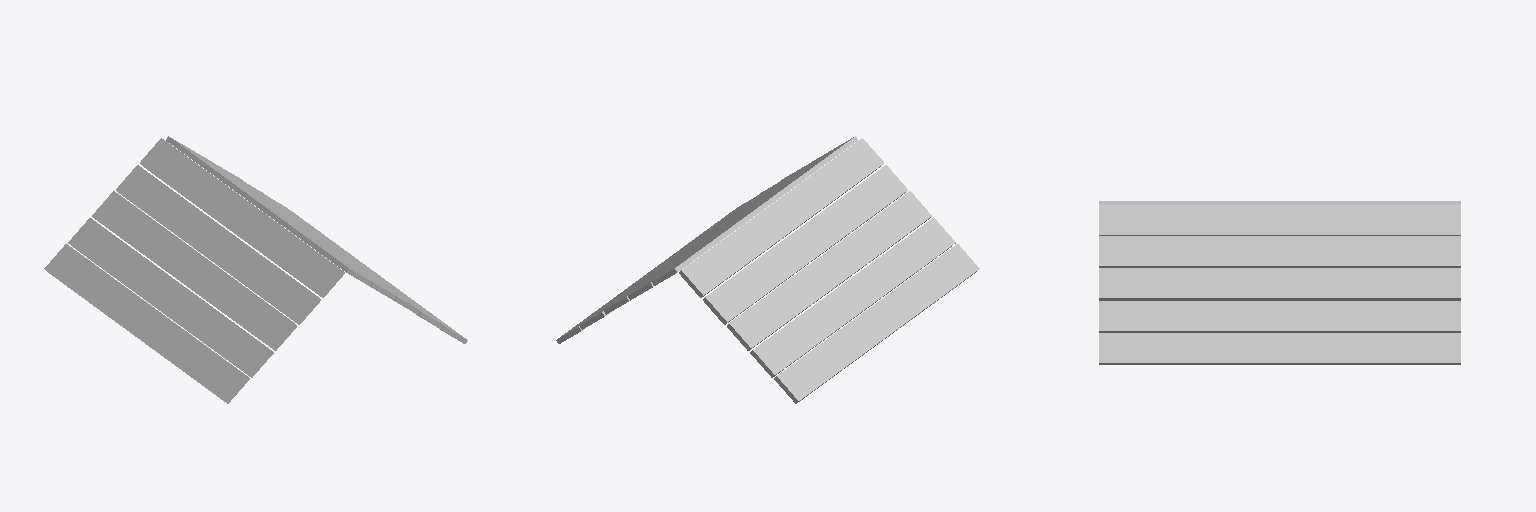
The model's file is roof.obj.
The picture shows the model from 3 angles: view 1: azimuth 30°, elevation 25°; view 2: azimuth 150°, elevation 25°; view 3: azimuth 270°, elevation 25°; orthographic projection.
Parts seen in each view (by area): view 1: roof; view 2: roof; view 3: roof.
Boxes of the visible parts, x1,y1,x2,y2 form: roof: [44, 136, 467, 403]; roof: [556, 136, 979, 403]; roof: [1099, 201, 1460, 364].
Bounding box in the file's own units: 3.63 × 1.52 × 4.69.